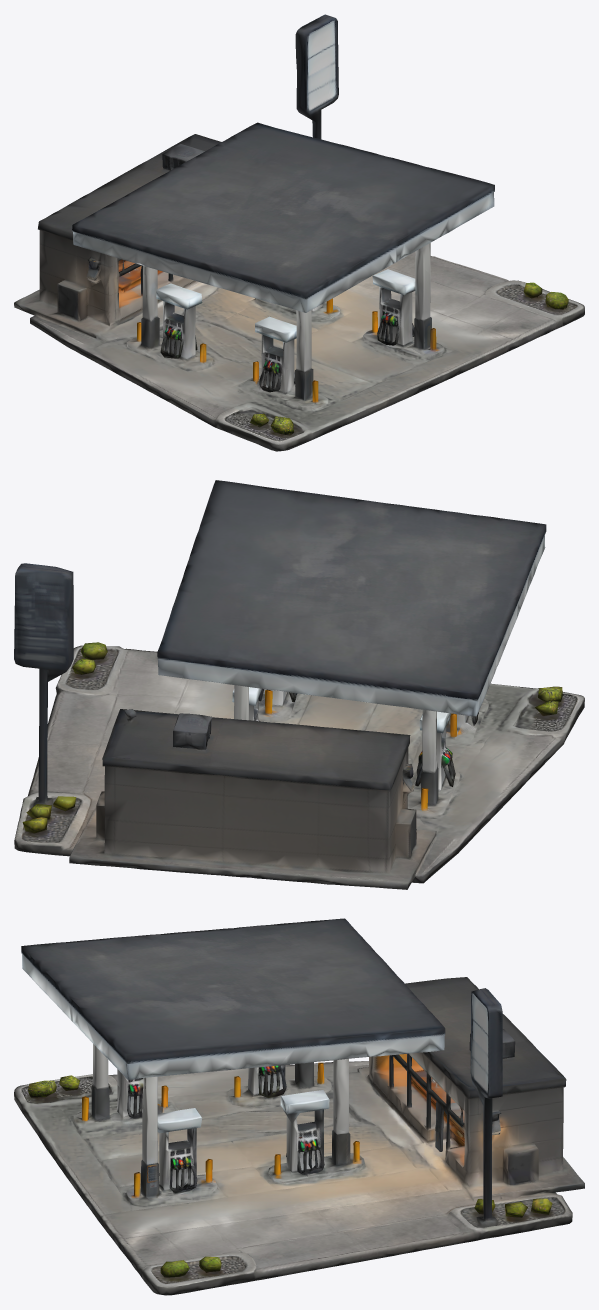
Rendered from petrol_station.glb.
3 renders of one model, top to bottom at view 1: azimuth 30°, elevation 25°; view 2: azimuth 150°, elevation 25°; view 3: azimuth 270°, elevation 25°, orthographic. The views are drawn at different scales.
Visible parts, largest first — view 1: tripo_node_1e790a82-325c-413d-9c58-ab2829347de1; view 2: tripo_node_1e790a82-325c-413d-9c58-ab2829347de1; view 3: tripo_node_1e790a82-325c-413d-9c58-ab2829347de1.
Part boxes in pixels (box(x1,y1,x2,y2)): tripo_node_1e790a82-325c-413d-9c58-ab2829347de1: box(14, 14, 584, 451); tripo_node_1e790a82-325c-413d-9c58-ab2829347de1: box(14, 480, 584, 889); tripo_node_1e790a82-325c-413d-9c58-ab2829347de1: box(14, 918, 584, 1295).
Bounding box in the file's own units: 0.961 × 0.4521 × 1.
Materials: 1 (1 with a texture image).
